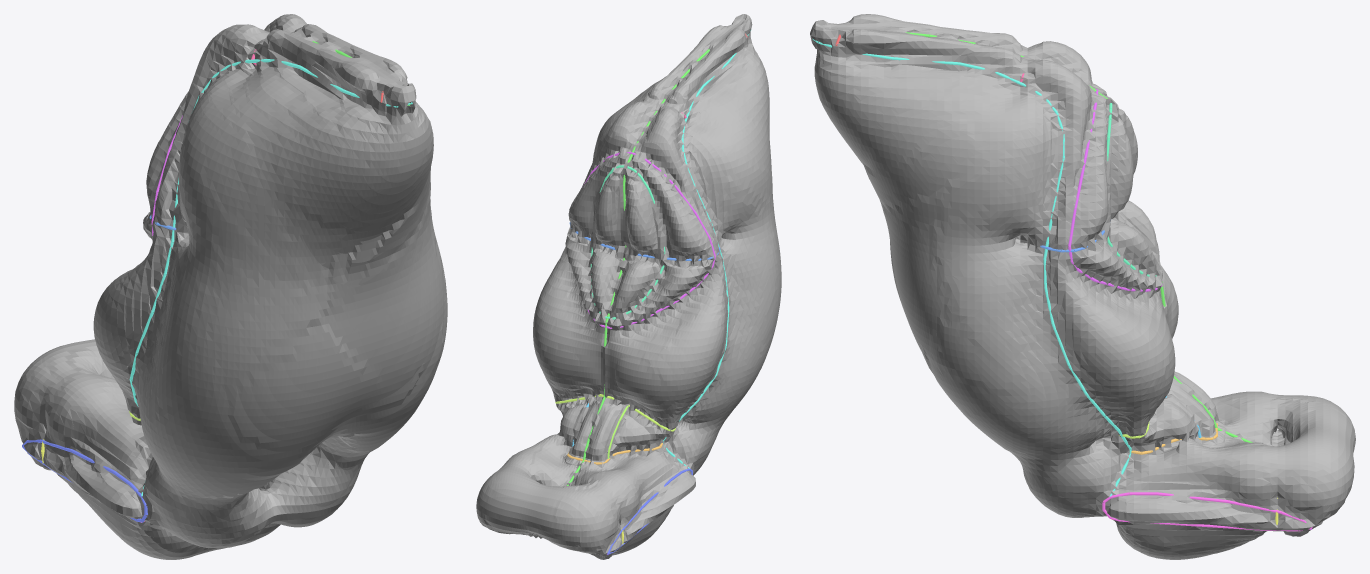
File: t2f_vacuum.gltf
3 views of the same model, side by side, from view 1: azimuth 30°, elevation 25°; view 2: azimuth 150°, elevation 25°; view 3: azimuth 270°, elevation 25° (orthographic). The views are drawn at different scales.
Size of the model in its own units: 0.3529 by 0.7673 by 0.7258.
